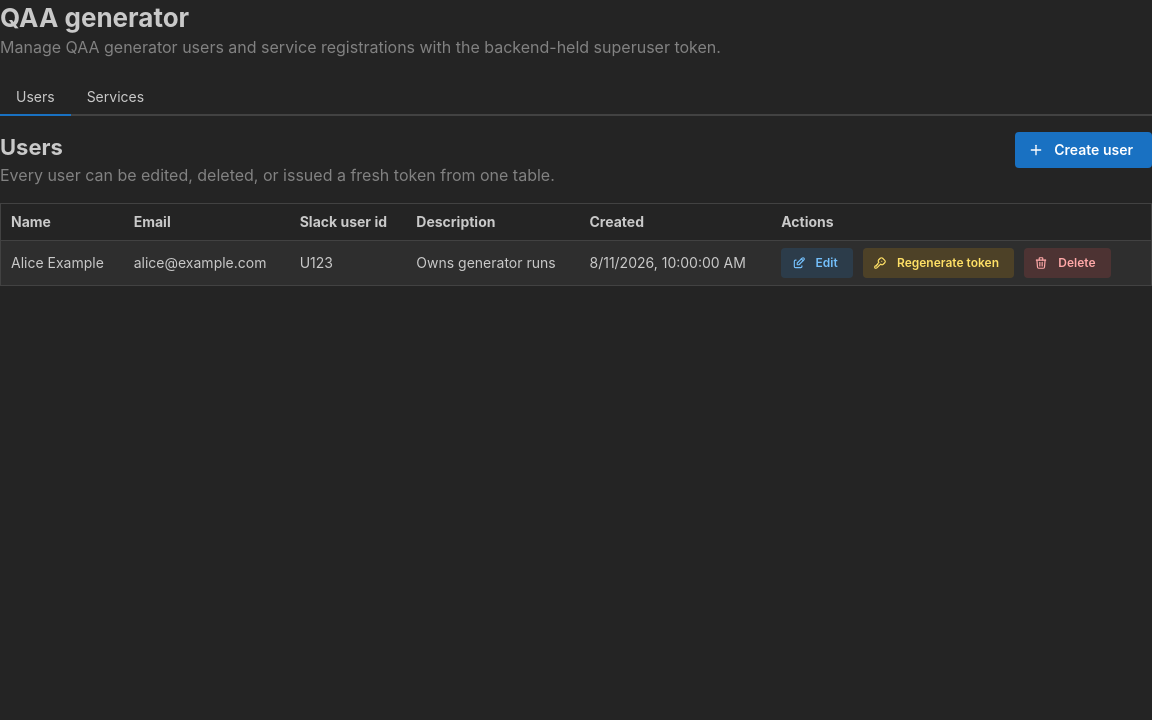
QAA generator AdminPanel › regenerates a service token by token_id and opens the copy-once modal
This screenshot has width=1152, height=720.
Expected: the text "Alice Example" is shown, [0, 241, 124, 286]
Click the tab "Services". click: (115, 98)
box: [71, 80, 160, 116]
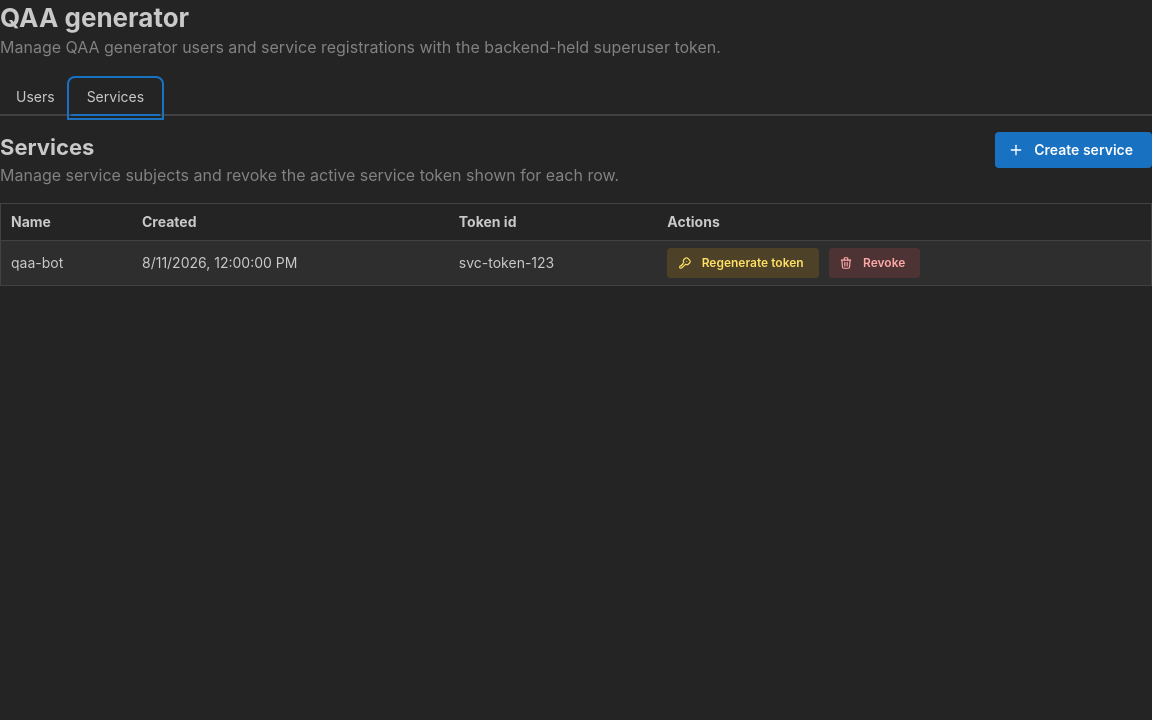
Now the text "qaa-bot" is shown, box [0, 241, 132, 286]
Click the button "Regenerate token". click: (743, 263)
box: [667, 248, 819, 278]
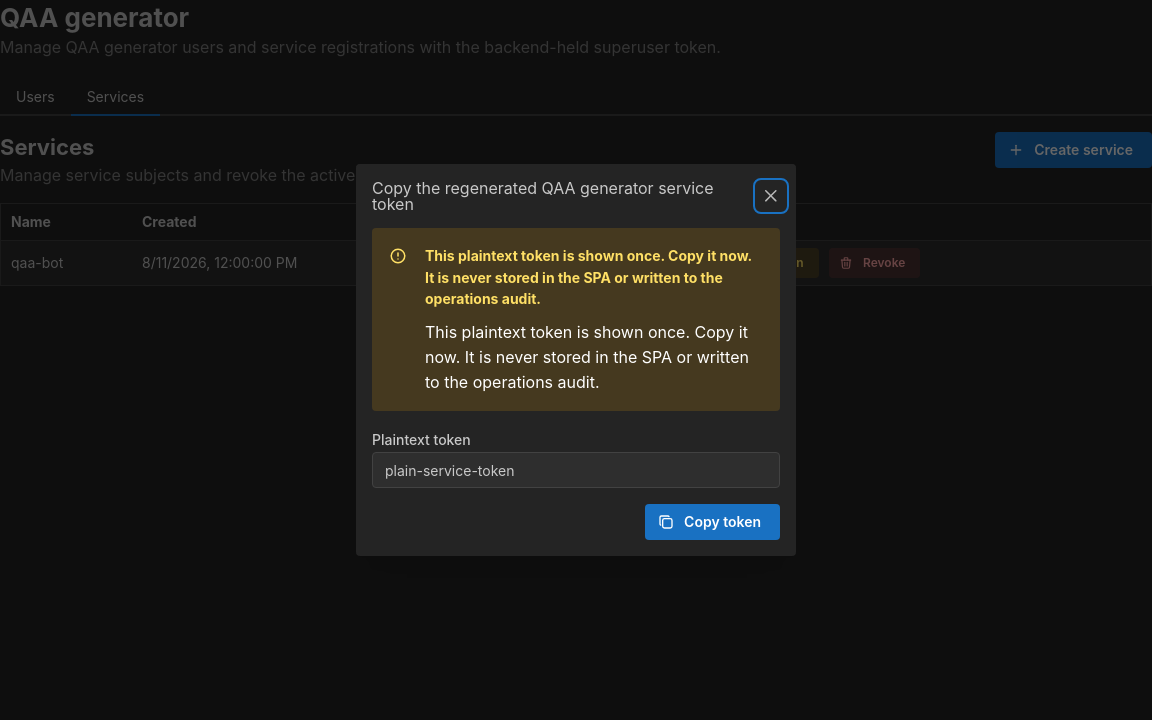
Now the heading "Copy the regenerated QAA generator service token" is shown, box [372, 180, 757, 212]
Now the field showing "plain-service-token" is shown, box [372, 452, 780, 488]
